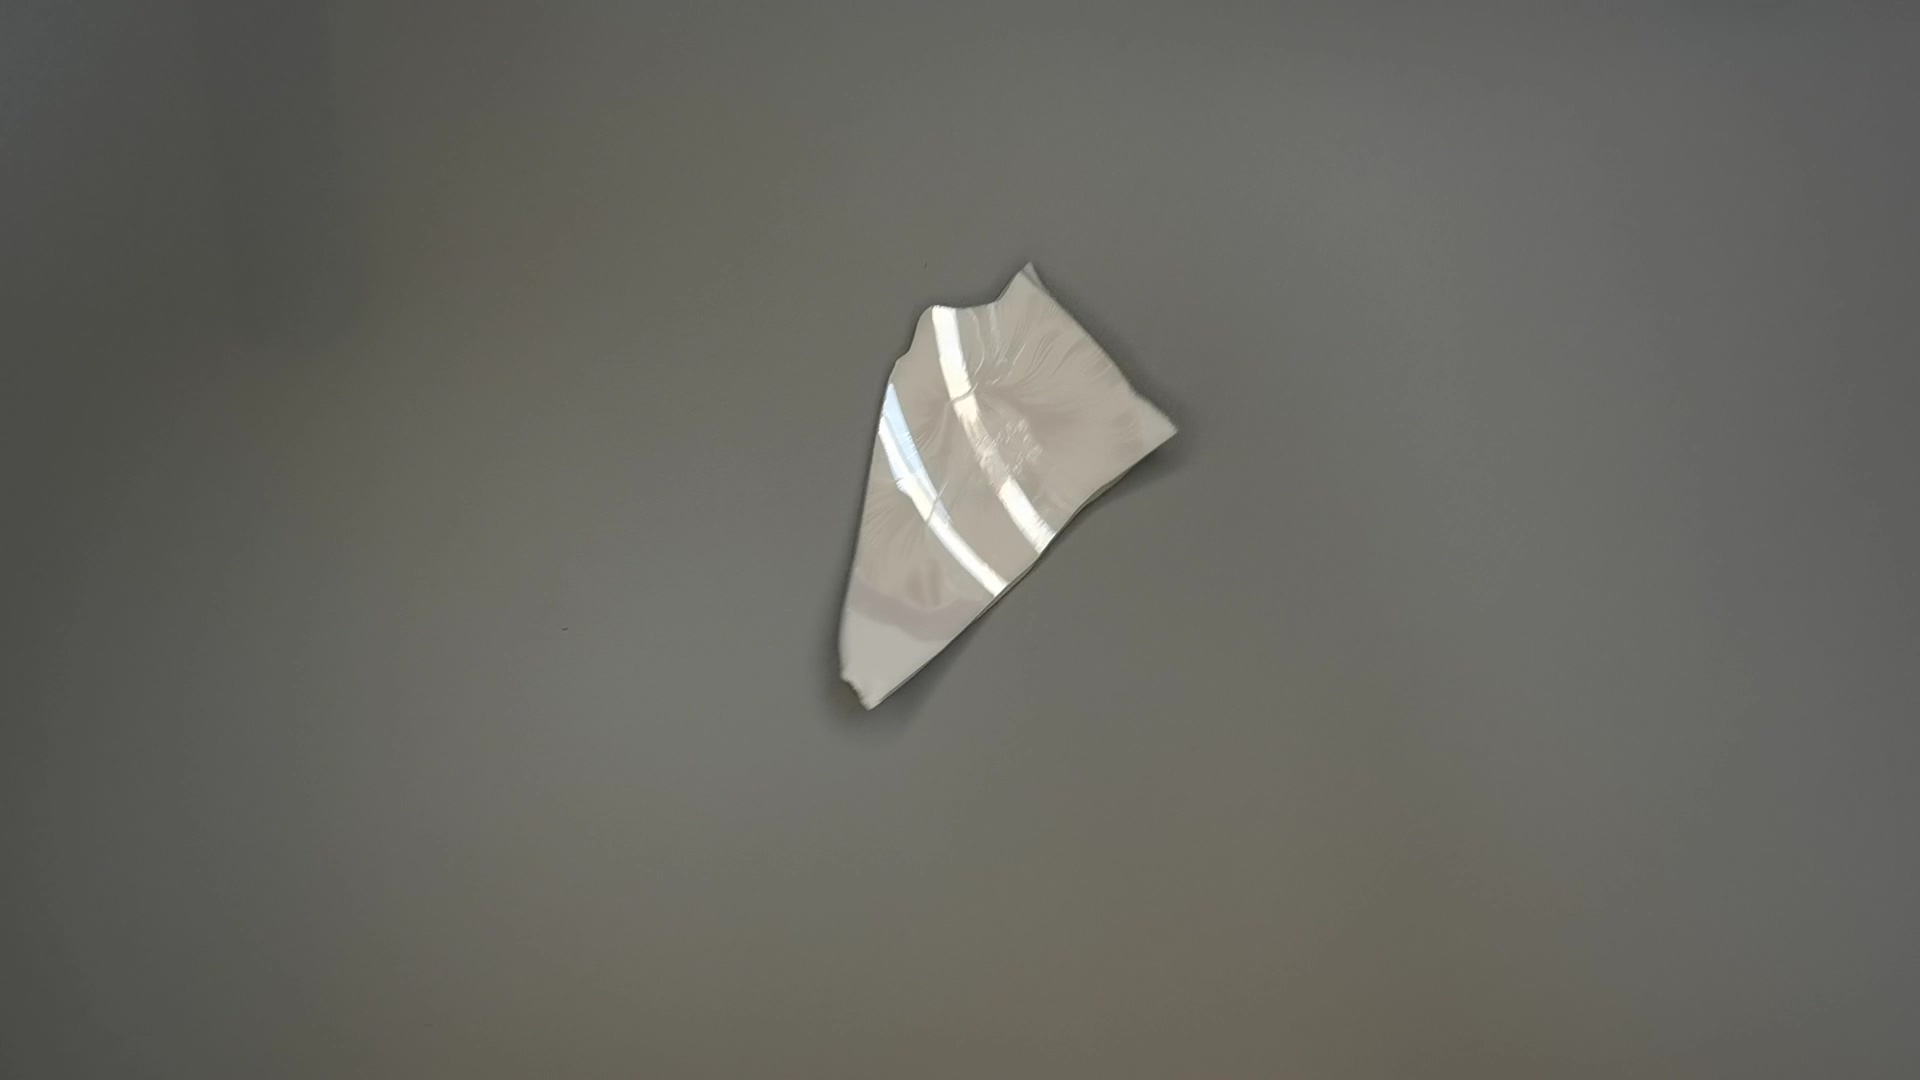ceramic: (828, 257, 1191, 716)
